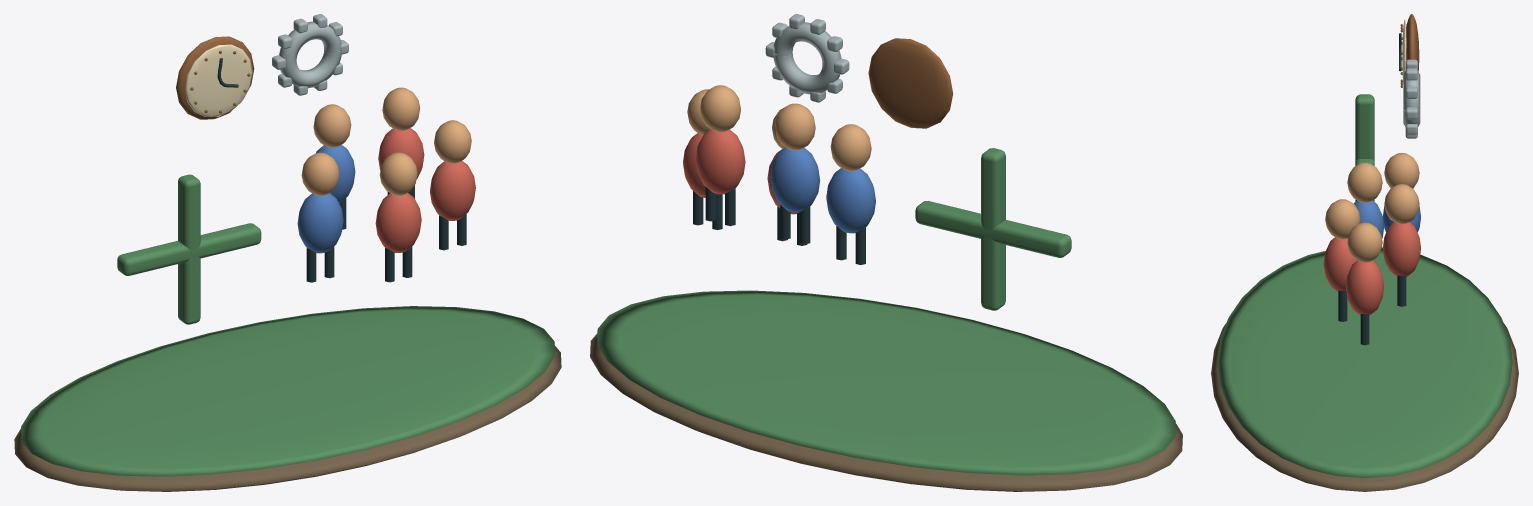
The model's file is complete-third-added-work-group.glb.
3 renders of one model, left to right at view 1: azimuth 30°, elevation 25°; view 2: azimuth 150°, elevation 25°; view 3: azimuth 270°, elevation 25°, orthographic. The views are drawn at different scales.
Visible parts, largest first — view 1: complete-third-added-work-group_surface_01, complete-third-added-work-group_surface_00, complete-third-added-work-group_surface_02, complete-third-added-work-group_surface_05, complete-third-added-work-group_surface_08, complete-third-added-work-group_surface_07, complete-third-added-work-group_surface_03, complete-third-added-work-group_surface_04, complete-third-added-work-group_surface_06; view 2: complete-third-added-work-group_surface_01, complete-third-added-work-group_surface_00, complete-third-added-work-group_surface_06, complete-third-added-work-group_surface_02, complete-third-added-work-group_surface_03, complete-third-added-work-group_surface_08, complete-third-added-work-group_surface_05, complete-third-added-work-group_surface_04; view 3: complete-third-added-work-group_surface_01, complete-third-added-work-group_surface_00, complete-third-added-work-group_surface_02, complete-third-added-work-group_surface_05, complete-third-added-work-group_surface_08, complete-third-added-work-group_surface_04, complete-third-added-work-group_surface_03, complete-third-added-work-group_surface_06.
Part boxes in pixels (bbox=[...]): complete-third-added-work-group_surface_01: bbox=[21, 174, 554, 476]; complete-third-added-work-group_surface_00: bbox=[14, 345, 561, 491]; complete-third-added-work-group_surface_02: bbox=[301, 87, 471, 195]; complete-third-added-work-group_surface_05: bbox=[375, 128, 475, 252]; complete-third-added-work-group_surface_08: bbox=[272, 14, 348, 95]; complete-third-added-work-group_surface_07: bbox=[184, 44, 252, 116]; complete-third-added-work-group_surface_03: bbox=[297, 145, 355, 253]; complete-third-added-work-group_surface_04: bbox=[217, 58, 466, 282]; complete-third-added-work-group_surface_06: bbox=[176, 36, 254, 119]; complete-third-added-work-group_surface_01: bbox=[597, 148, 1175, 475]; complete-third-added-work-group_surface_00: bbox=[590, 333, 1182, 491]; complete-third-added-work-group_surface_06: bbox=[868, 38, 953, 128]; complete-third-added-work-group_surface_02: bbox=[687, 85, 871, 171]; complete-third-added-work-group_surface_03: bbox=[770, 147, 875, 233]; complete-third-added-work-group_surface_08: bbox=[765, 14, 849, 102]; complete-third-added-work-group_surface_05: bbox=[683, 129, 798, 214]; complete-third-added-work-group_surface_04: bbox=[693, 187, 865, 264]; complete-third-added-work-group_surface_01: bbox=[1217, 94, 1512, 478]; complete-third-added-work-group_surface_00: bbox=[1211, 323, 1518, 491]; complete-third-added-work-group_surface_02: bbox=[1325, 153, 1419, 262]; complete-third-added-work-group_surface_05: bbox=[1323, 222, 1420, 315]; complete-third-added-work-group_surface_08: bbox=[1403, 59, 1420, 138]; complete-third-added-work-group_surface_04: bbox=[1338, 33, 1406, 345]; complete-third-added-work-group_surface_03: bbox=[1354, 200, 1420, 238]; complete-third-added-work-group_surface_06: bbox=[1400, 14, 1419, 87].
Size of the model in its own units: 4.56 by 3.12 by 2.5.
